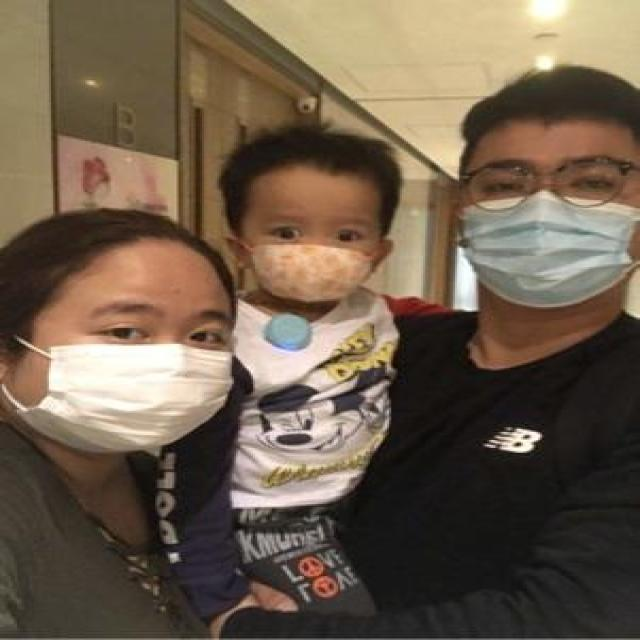with_mask: (9, 296, 233, 459), (456, 150, 639, 311), (244, 208, 382, 307)
